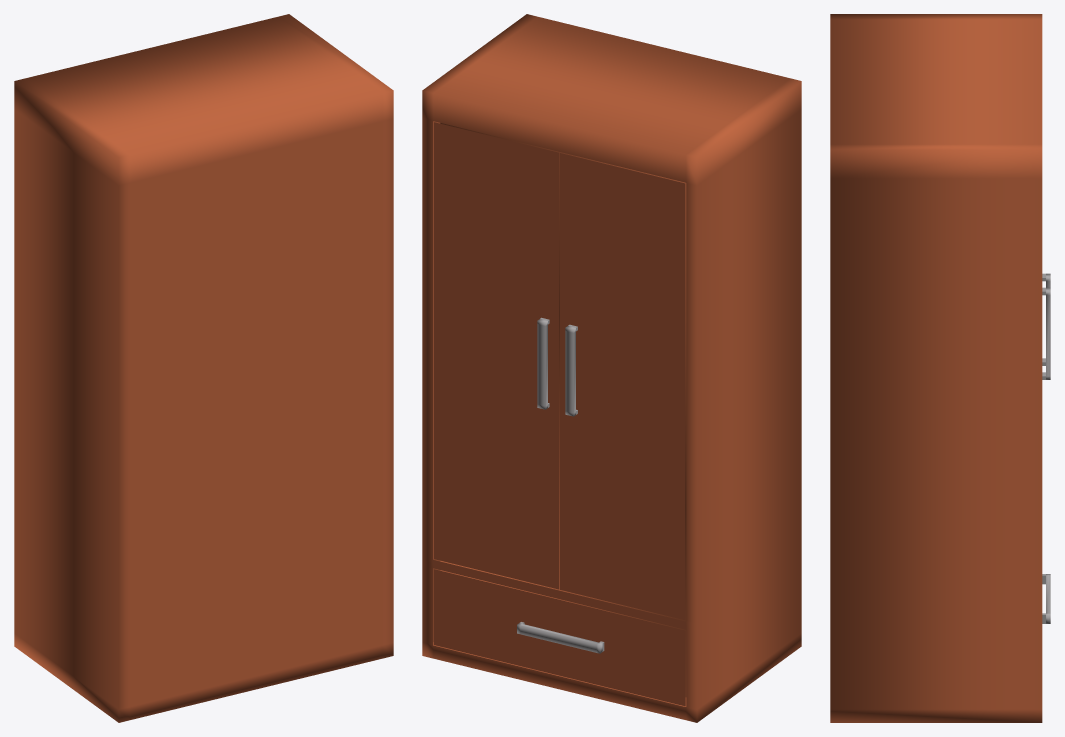
Rendered from wardrobe_big.obj.
3 renders of one model, left to right at view 1: azimuth 30°, elevation 25°; view 2: azimuth 150°, elevation 25°; view 3: azimuth 270°, elevation 25°, orthographic.
Visible parts, largest first — view 1: Wardrobe_bedroom.025; view 2: Wardrobe_bedroom.025; view 3: Wardrobe_bedroom.025.
Part boxes in pixels (x1,y1,x2,y2): Wardrobe_bedroom.025: (14,14,393,722); Wardrobe_bedroom.025: (422,14,801,722); Wardrobe_bedroom.025: (830,14,1050,722).
Bounding box in the file's own units: 1.75 × 3.45 × 1.2.
Materials: 2 (2 with a texture image).
